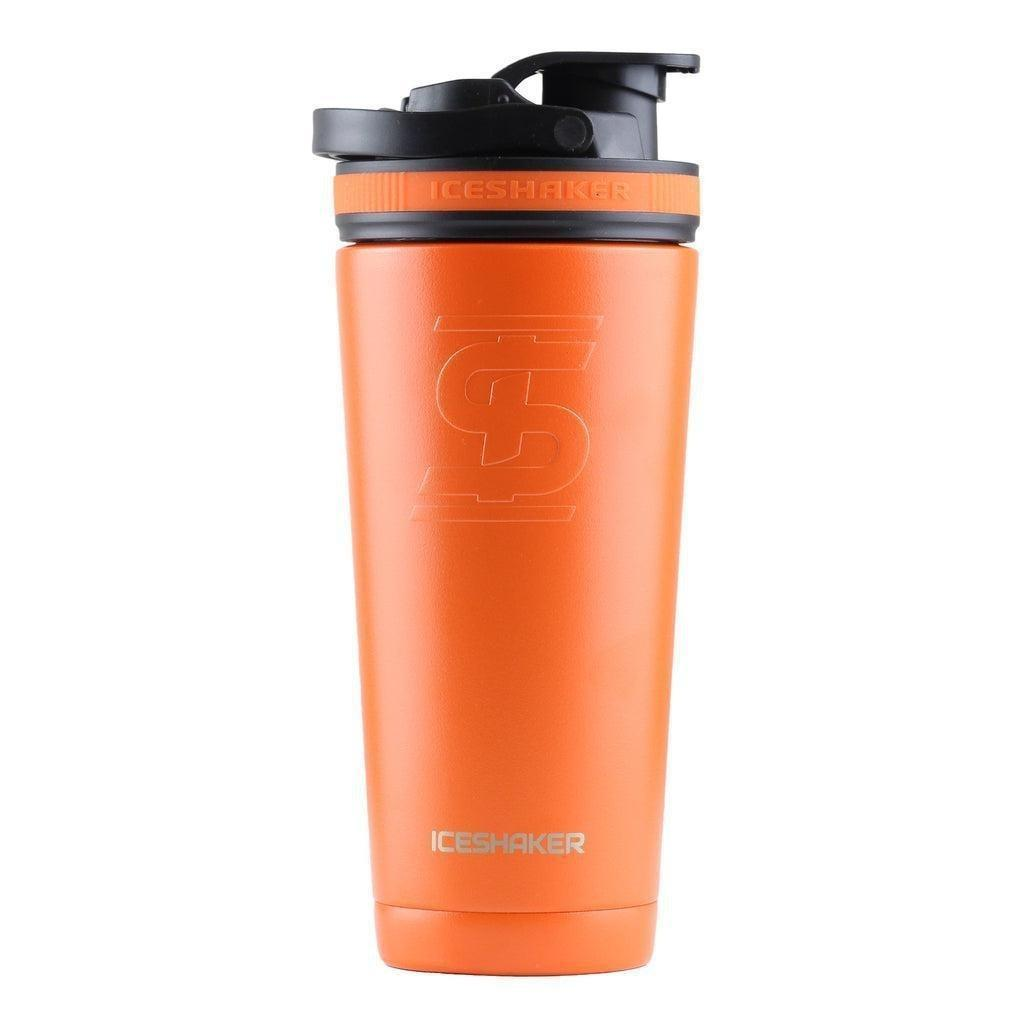gym bottle: (309, 48, 709, 989)
